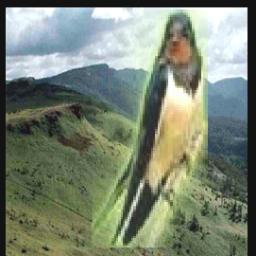Swallow: (91, 11, 207, 249)
